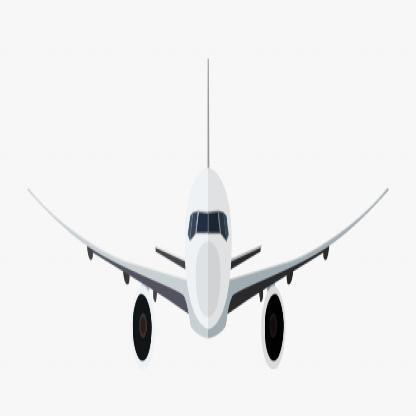CIV_Plane: (22, 55, 391, 376)
